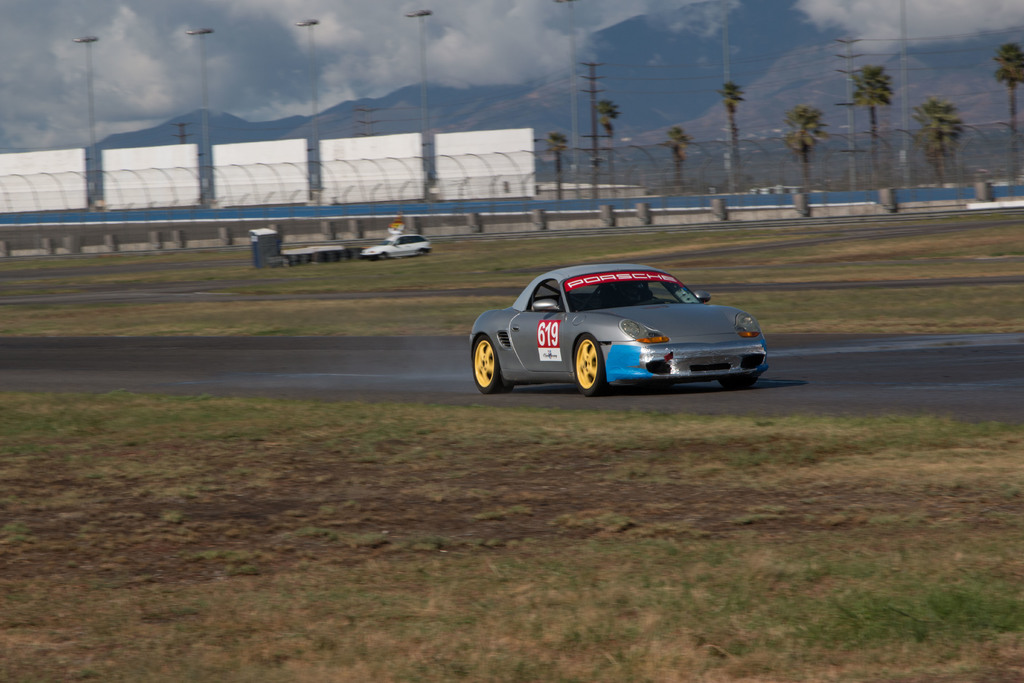Car: (472, 262, 768, 398), (359, 235, 431, 255)
